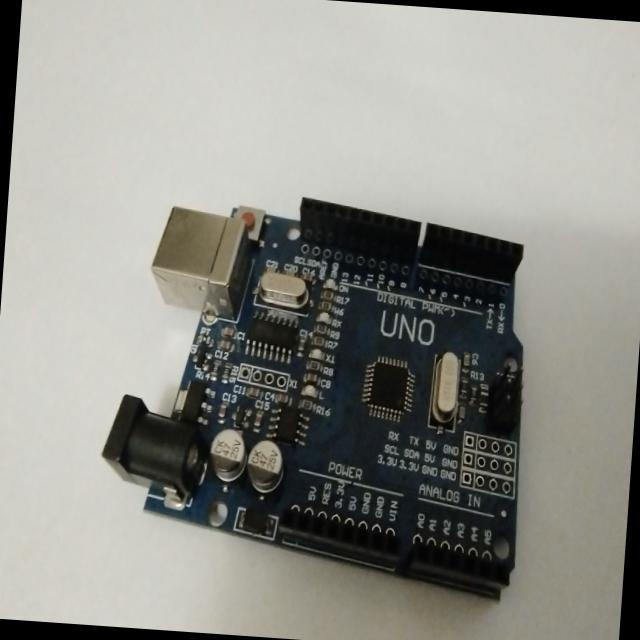arduino: (99, 186, 546, 614)
